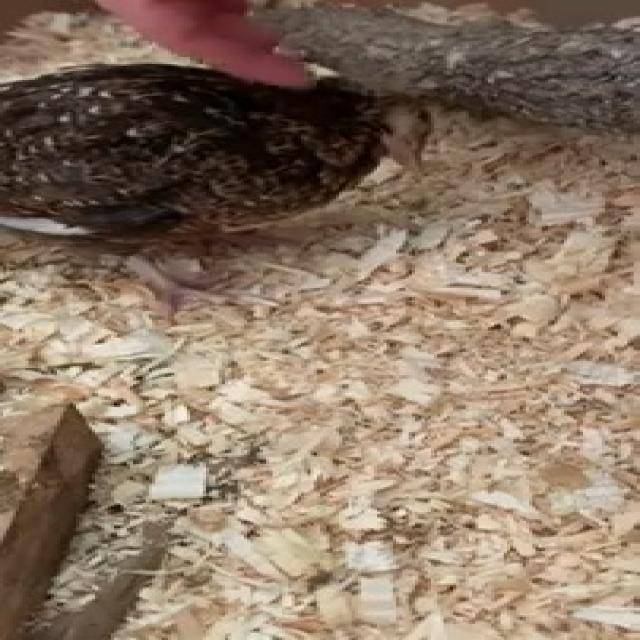newcastle: (0, 55, 466, 272)
